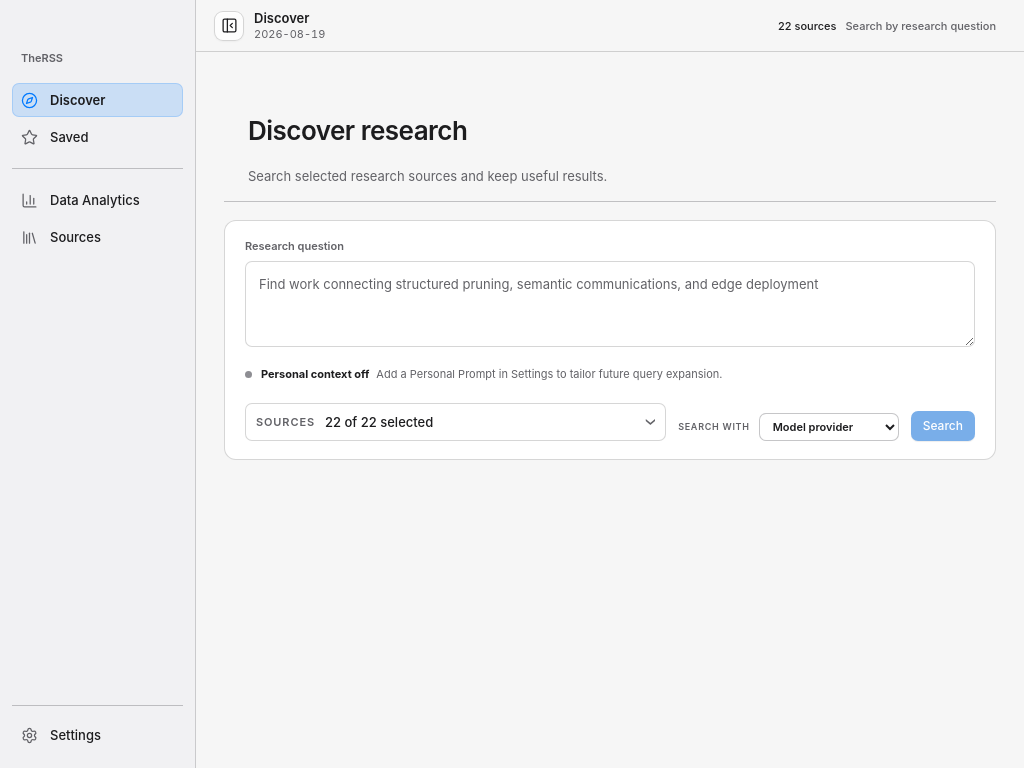
Test case: App › shows per-source progress and cancels the active Discover run by run ID
The width and height of the screenshot is (1024, 768).
In the text box labelled "Research question": (610, 304) [245, 260, 975, 347], type "edge search"
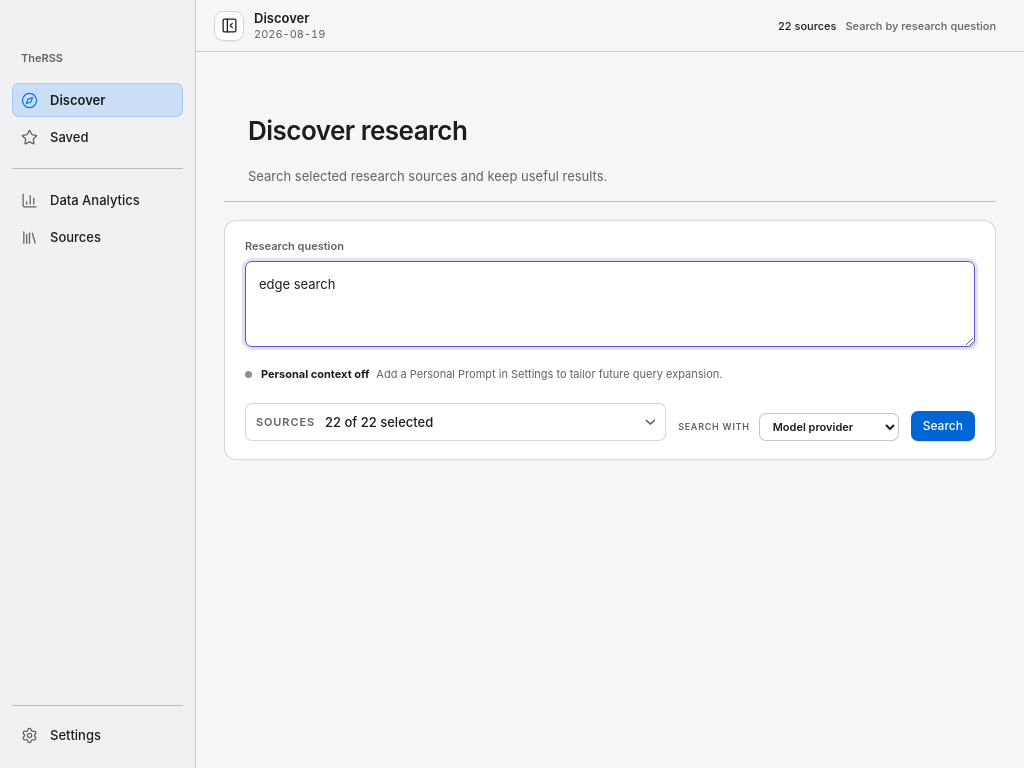
Click the button "Search": (943, 426) [911, 411, 975, 441]
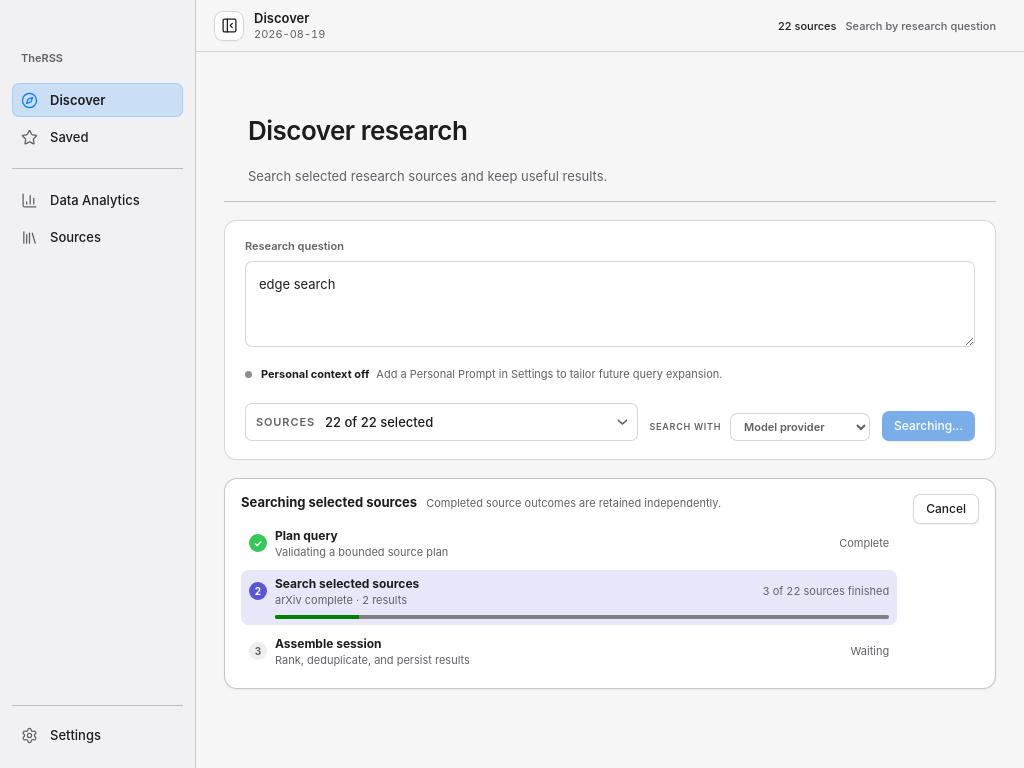
Result: the message named "Discover run progress" shows "3 of 22 sources finished" at [762, 584, 889, 598]
Result: the number of list items is 3 at [241, 522, 897, 565]; [241, 570, 897, 625]; [241, 630, 897, 673]
Result: the button with aria-label "Cancel Discover search" is shown
Click the button with aria-label "Cancel Discover search": (946, 509) [913, 494, 979, 524]
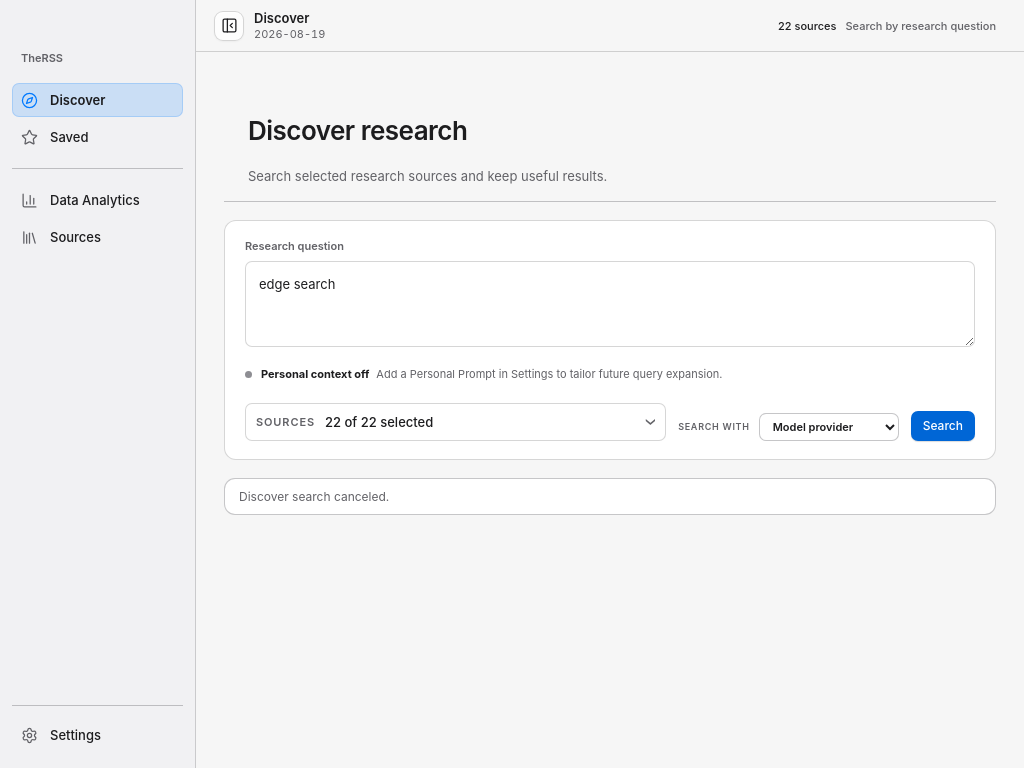
Result: the message named "Discover cancellation status" shows "Discover search canceled" at [239, 489, 389, 504]
